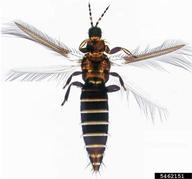Thrips: (7, 2, 179, 166)
